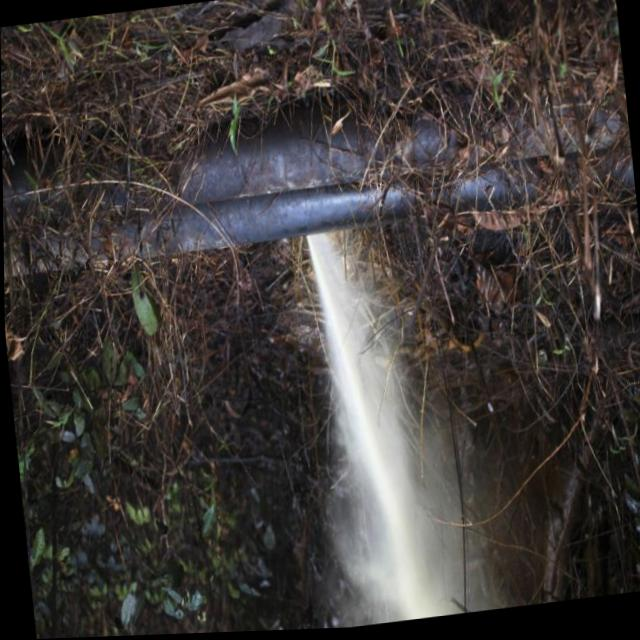leak: (297, 228, 488, 628)
